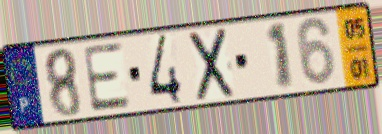1: (265, 19, 295, 94)
4: (145, 32, 187, 108)
6: (294, 14, 341, 90)
8: (42, 45, 84, 119)
E: (80, 40, 133, 115)
X: (187, 25, 236, 105)
